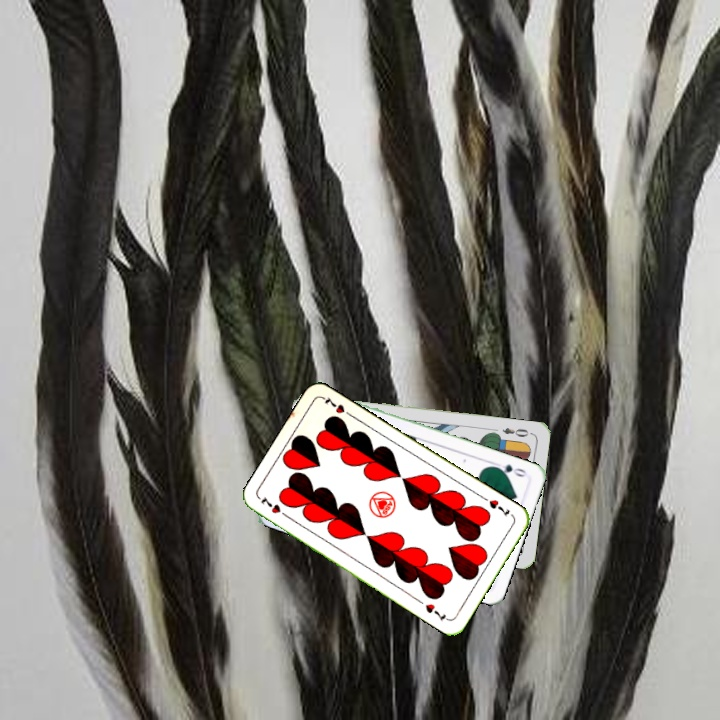EO: (498, 423, 531, 440)
GO: (490, 460, 529, 480)
H7: (256, 493, 292, 521), (478, 493, 512, 519)
